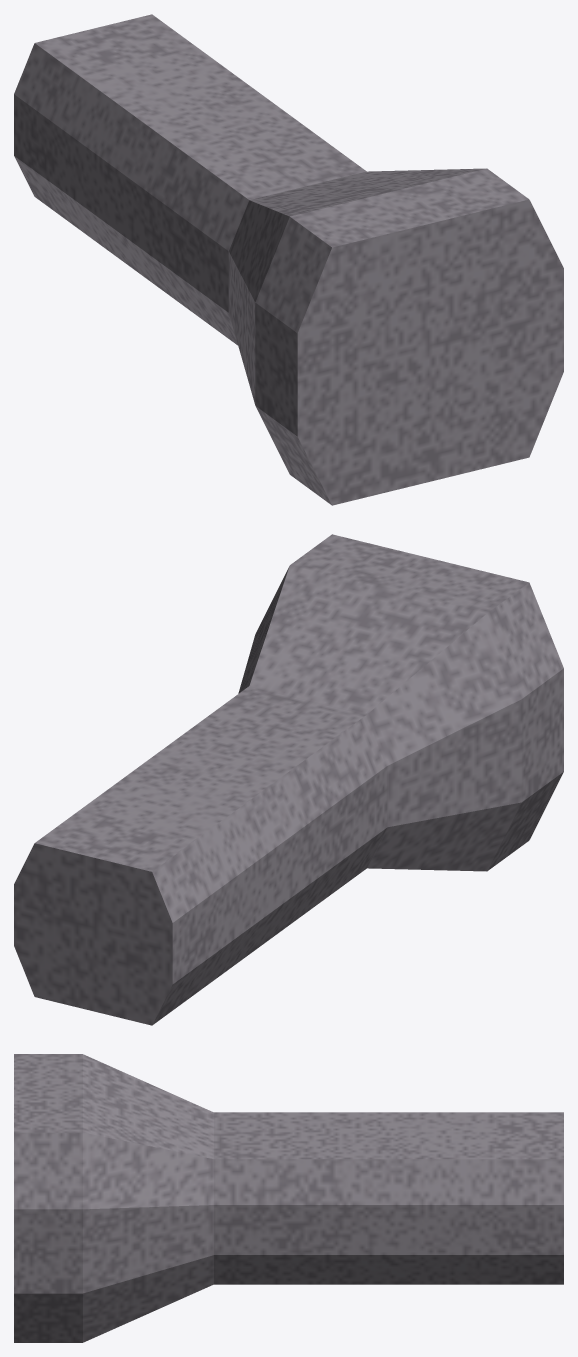
The model's file is Flashlight.fbx.
3 views of the same model, one above another, from view 1: azimuth 30°, elevation 25°; view 2: azimuth 150°, elevation 25°; view 3: azimuth 270°, elevation 25° (orthographic). The views are drawn at different scales.
Parts seen in each view (by area): view 1: Flashlight; view 2: Flashlight; view 3: Flashlight.
Part boxes in pixels (x1,y1,x2,y2): Flashlight: [14, 14, 563, 505]; Flashlight: [14, 534, 563, 1025]; Flashlight: [14, 1054, 563, 1342].
Bounding box in the file's own units: 9.43 × 8.73 × 20.69.
1 material, 1 textured.
